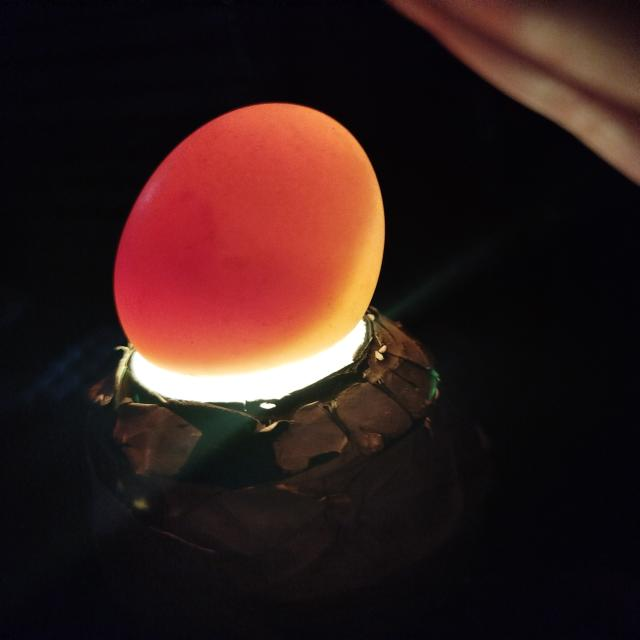Gema Quebrada: (114, 104, 374, 366)
